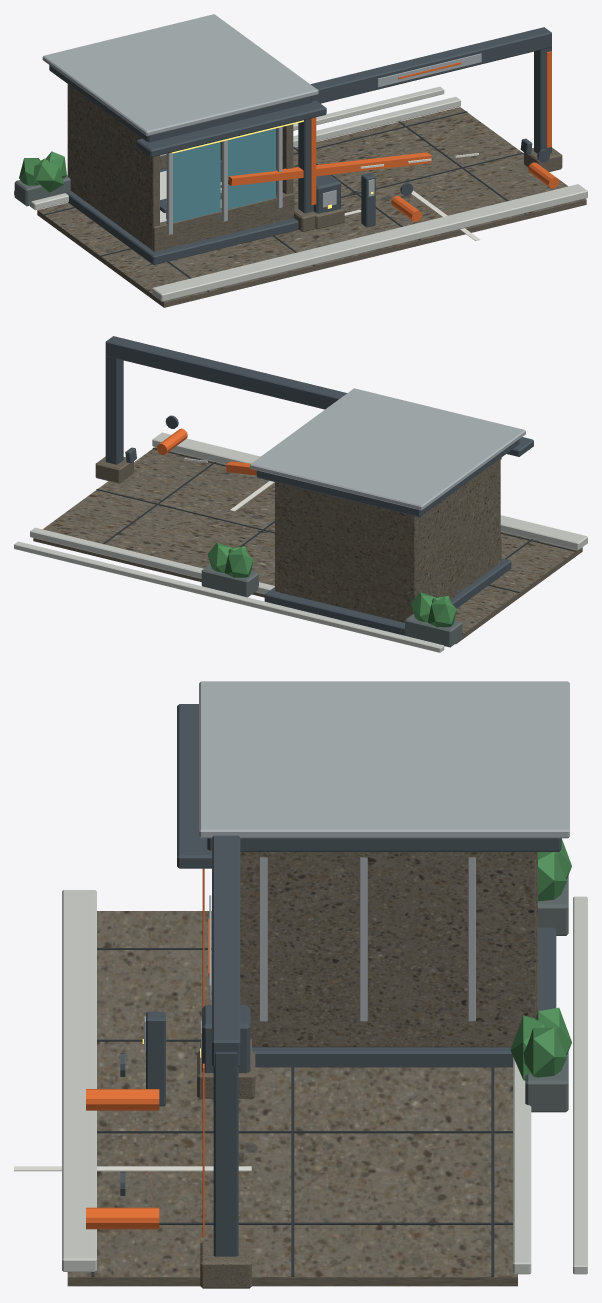
The model's file is guard-access.glb.
3 renders of one model, top to bottom at view 1: azimuth 30°, elevation 25°; view 2: azimuth 150°, elevation 25°; view 3: azimuth 270°, elevation 25°, orthographic. The views are drawn at different scales.
Parts seen in each view (by area): view 1: AccessPavement, BoothRoofCap, BoothLeftWall.001, Daylight_SidewalkEdge, PortalHeader, BoothFrontSill, FrontGlass_0, BoothPlinth, BoothCanopy, FrontGlass_1, Daylight_FrontKerb, VehicleBarrier (+22 smaller); view 2: AccessPavement, BoothRoofCap, BoothRearWall, BoothLeftWall.001, PortalHeader, Daylight_BackdropCurb, Daylight_SidewalkEdge, BoothPlinth, Daylight_FrontKerb, PortalPost_1, BoothRoofSlab, Daylight_Planter_1 (+7 smaller); view 3: AccessPavement, BoothRoofCap, BoothRightWall.001, Daylight_SidewalkEdge, BoothPlinth, PortalHeader, Daylight_BackdropCurb, PortalPost_1, BoothRoofSlab, BoothCanopy, Daylight_FrontKerb, PortalBase_1 (+18 smaller).
Part boxes in pixels (<box>): AccessPavement: <box>37,107,586,307</box>; BoothRoofCap: <box>42,14,318,136</box>; BoothLeftWall.001: <box>68,84,159,250</box>; Daylight_SidewalkEdge: <box>152,184,587,301</box>; PortalHeader: <box>310,27,551,103</box>; BoothFrontSill: <box>151,192,294,251</box>; FrontGlass_0: <box>173,142,220,222</box>; BoothPlinth: <box>66,168,298,264</box>; BoothCanopy: <box>136,100,326,157</box>; FrontGlass_1: <box>228,128,275,209</box>; Daylight_FrontKerb: <box>30,96,460,210</box>; VehicleBarrier: <box>228,152,431,185</box>; AccessPavement: <box>33,447,582,644</box>; BoothRoofCap: <box>250,388,525,510</box>; BoothRearWall: <box>275,482,415,622</box>; BoothLeftWall.001: <box>415,458,500,599</box>; PortalHeader: <box>105,336,346,409</box>; Daylight_BackdropCurb: <box>14,541,444,652</box>; Daylight_SidewalkEdge: <box>152,432,587,550</box>; BoothPlinth: <box>264,558,511,635</box>; Daylight_FrontKerb: <box>30,527,274,594</box>; PortalPost_1: <box>105,355,123,464</box>; BoothRoofSlab: <box>256,439,519,517</box>; Daylight_Planter_1: <box>201,564,258,597</box>; AccessPavement: <box>67,911,517,1286</box>; BoothRoofCap: <box>199,681,569,838</box>; BoothRightWall.001: <box>240,852,535,1047</box>; Daylight_SidewalkEdge: <box>62,890,96,1271</box>; BoothPlinth: <box>252,927,556,1067</box>; PortalHeader: <box>212,835,240,1066</box>; Daylight_BackdropCurb: <box>573,896,587,1274</box>; PortalPost_1: <box>213,1052,238,1256</box>; BoothRoofSlab: <box>207,838,561,851</box>; BoothCanopy: <box>177,704,211,868</box>; Daylight_FrontKerb: <box>513,1057,531,1274</box>; PortalBase_1: <box>200,1241,251,1288</box>.
Size of the model in its own units: 10.95 by 3.39 by 6.88.
12 materials, 1 textured.
